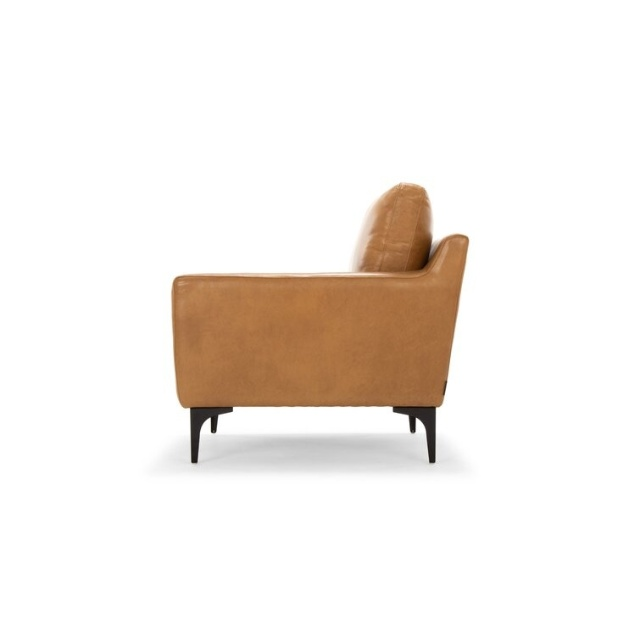obstacle: (172, 183, 467, 462)
